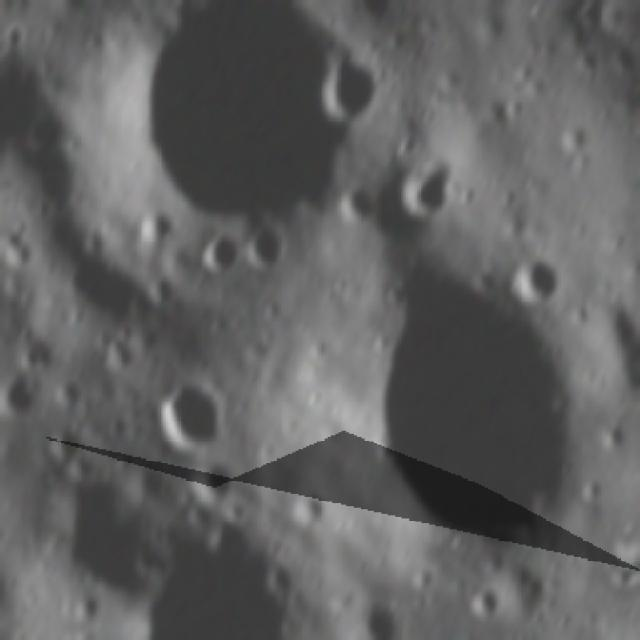crater: (99, 0, 416, 288), (347, 244, 598, 548), (141, 505, 304, 637), (318, 30, 399, 130), (151, 377, 237, 445), (501, 248, 577, 312), (242, 213, 300, 282), (397, 154, 461, 214), (192, 228, 248, 281), (23, 98, 74, 153), (353, 592, 407, 640), (186, 451, 237, 500), (0, 364, 40, 419), (462, 582, 508, 629), (136, 203, 181, 243), (44, 419, 90, 458), (48, 374, 87, 414)
